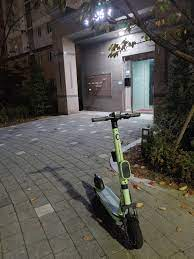kick_board: (89, 112, 143, 247)
kick_handler: (93, 112, 141, 127)
kick_neck: (113, 130, 132, 204)
kick_wheel: (123, 216, 142, 247), (91, 175, 103, 192)
